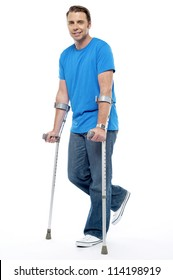crutches: (42, 6, 130, 254)
